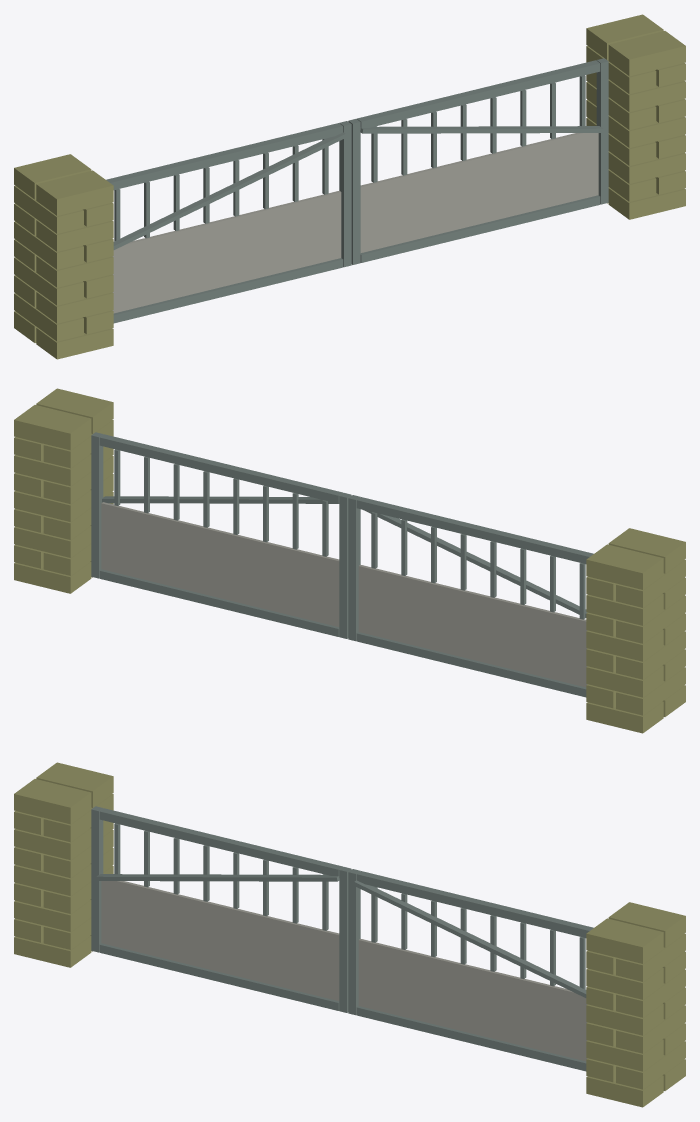
The model's file is SM_PuertaVehiculos_v0_LOD0.fbx.
The picture shows the model from 3 angles, top to bottom: view 1: azimuth 30°, elevation 25°; view 2: azimuth 150°, elevation 25°; view 3: azimuth 330°, elevation 25°; orthographic projection.
Visible parts, largest first — view 1: SM_bloques.puerta_vehiculos_v0_LOD0, Hoja_E, Hoja_O; view 2: SM_bloques.puerta_vehiculos_v0_LOD0, Hoja_E, Hoja_O; view 3: SM_bloques.puerta_vehiculos_v0_LOD0, Hoja_O, Hoja_E.
Boxes of the visible parts, x1=… form: SM_bloques.puerta_vehiculos_v0_LOD0: x1=14, y1=14, x2=685, y2=359; Hoja_E: x1=348, y1=58, x2=608, y2=264; Hoja_O: x1=106, y1=121, x2=351, y2=323; SM_bloques.puerta_vehiculos_v0_LOD0: x1=14, y1=388, x2=685, y2=733; Hoja_E: x1=91, y1=432, x2=351, y2=638; Hoja_O: x1=348, y1=495, x2=593, y2=697; SM_bloques.puerta_vehiculos_v0_LOD0: x1=14, y1=762, x2=685, y2=1107; Hoja_O: x1=91, y1=806, x2=351, y2=1012; Hoja_E: x1=348, y1=869, x2=593, y2=1071.
Bounding box in the file's own units: 9.78 × 2.38 × 1.16.
